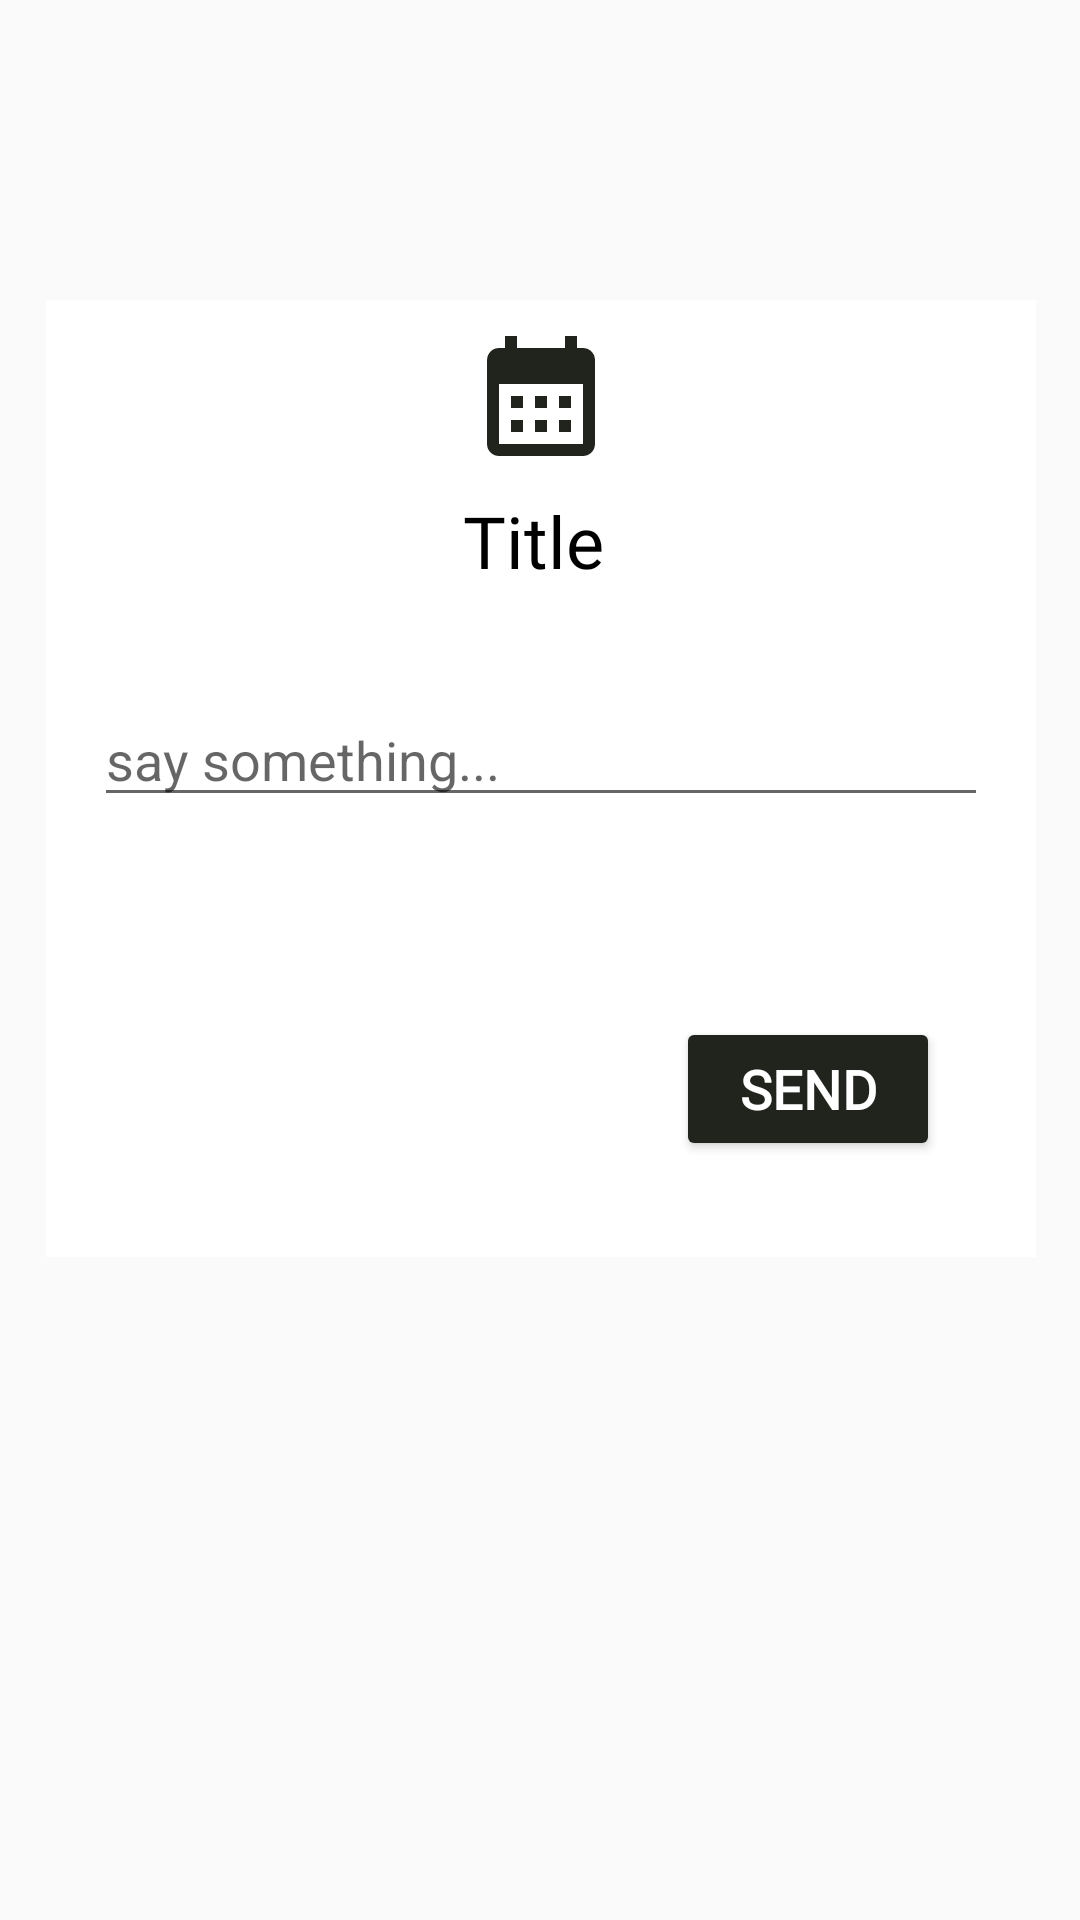

Where to tap for icons on this 1080px×1920px app screen, as (x=x, y=y):
calendar: (x=541, y=396)
